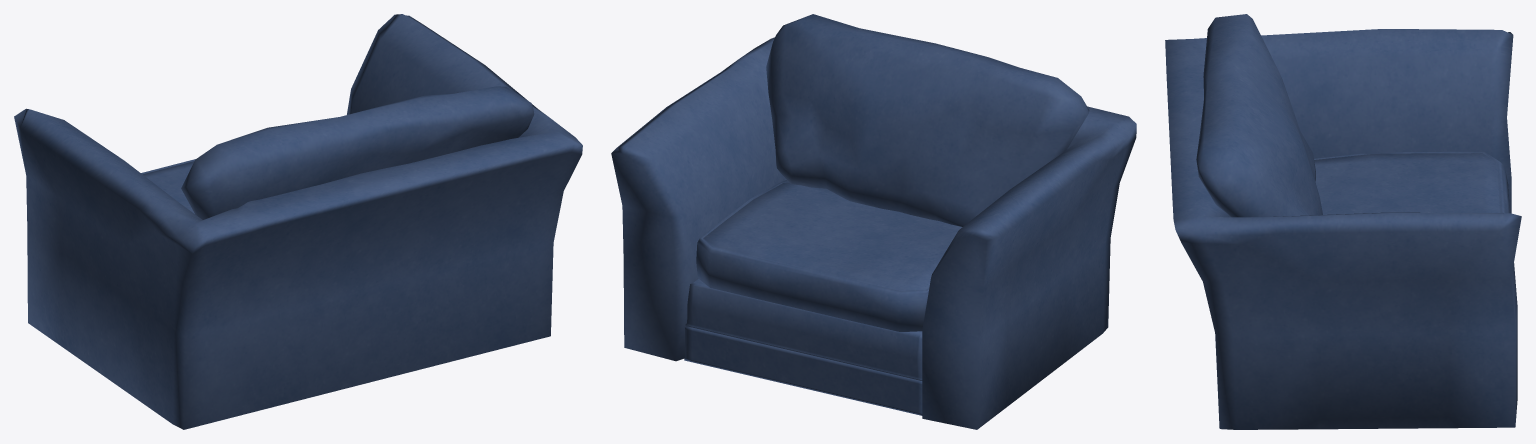
The model's file is armchair.obj.
The picture shows the model from 3 angles, left to right: view 1: azimuth 30°, elevation 25°; view 2: azimuth 150°, elevation 25°; view 3: azimuth 270°, elevation 25°; orthographic projection. The views are drawn at different scales.
Visible parts, largest first — view 1: armchair_01; view 2: armchair_01; view 3: armchair_01.
Boxes of the visible parts, left/top/right/bottom form: armchair_01: left=14, top=14, right=582, bottom=429; armchair_01: left=611, top=14, right=1136, bottom=429; armchair_01: left=1165, top=14, right=1521, bottom=429.
Bounding box in the file's own units: 1.45 × 0.9039 × 1.1.
